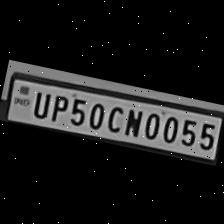0: (140, 108, 164, 140), (84, 96, 107, 129), (158, 110, 181, 142)
5: (64, 92, 90, 126), (174, 113, 200, 147), (194, 116, 218, 150)
C: (101, 100, 125, 132)
N: (120, 103, 144, 136)
P: (46, 89, 71, 122)
U: (27, 84, 52, 118)
